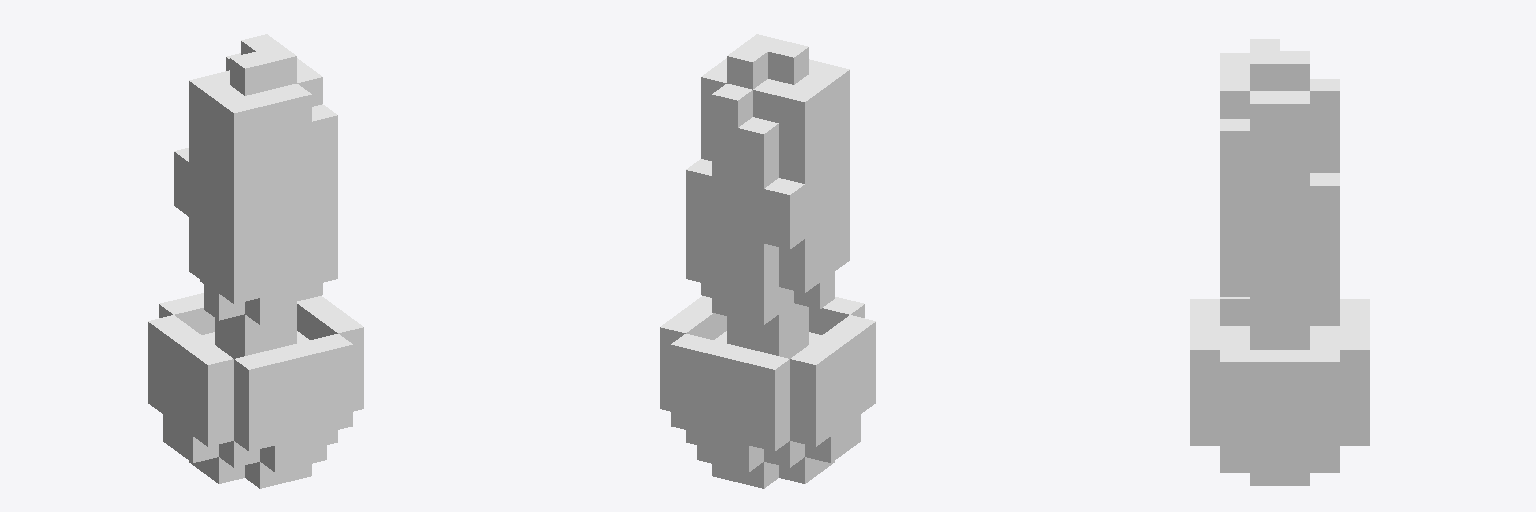
The model's file is plant.obj.
The picture shows the model from 3 angles: view 1: azimuth 30°, elevation 25°; view 2: azimuth 150°, elevation 25°; view 3: azimuth 270°, elevation 25°; orthographic projection.
Visible parts, largest first — view 1: object 1; view 2: object 1; view 3: object 1.
Part boxes in pixels (x1,y1,x2,y2): object 1: (148,34,363,488); object 1: (660,34,875,488); object 1: (1190,39,1369,485).
Size of the model in its own units: 0.6 by 1.5 by 0.6.